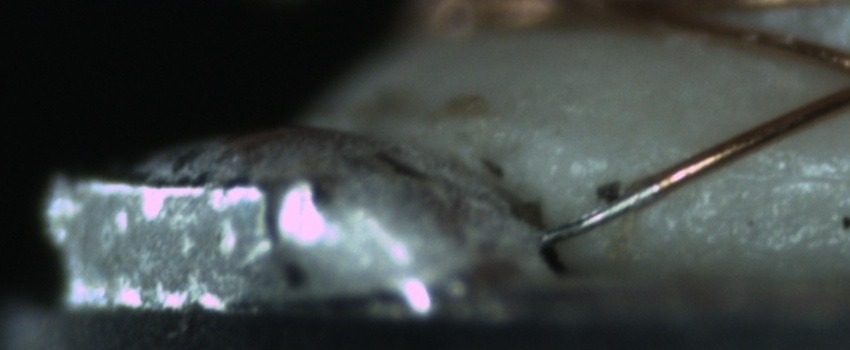CL: (833, 49, 850, 106)
DL: (730, 148, 850, 208)
TS: (538, 178, 664, 242)
